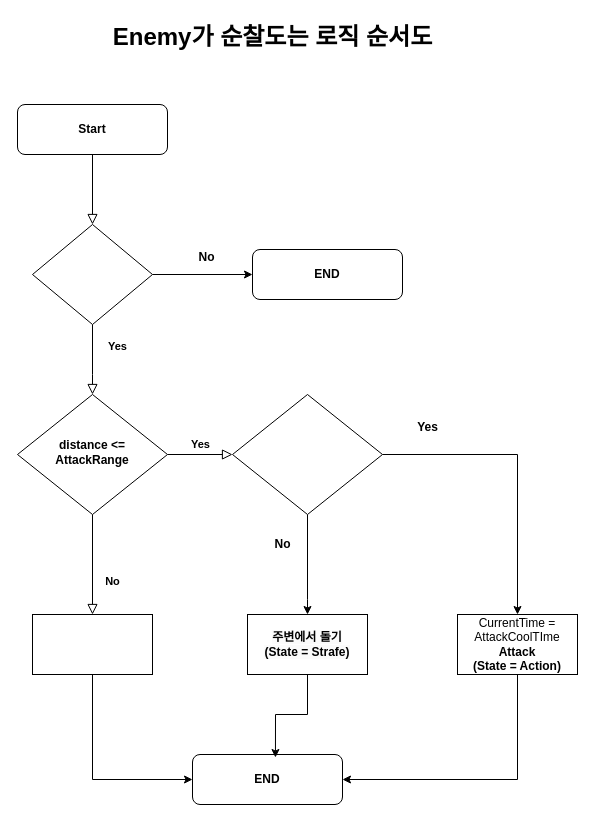
This 595x822 diagram has some shape labels left out. Each missing label, with the box of its shape:
Player를 향해 다가가기 (State = Approach): (32, 614, 152, 674)
State != Action && CurrentTime <=0: (232, 394, 382, 514)
Target != Nullptr: (32, 224, 152, 324)
